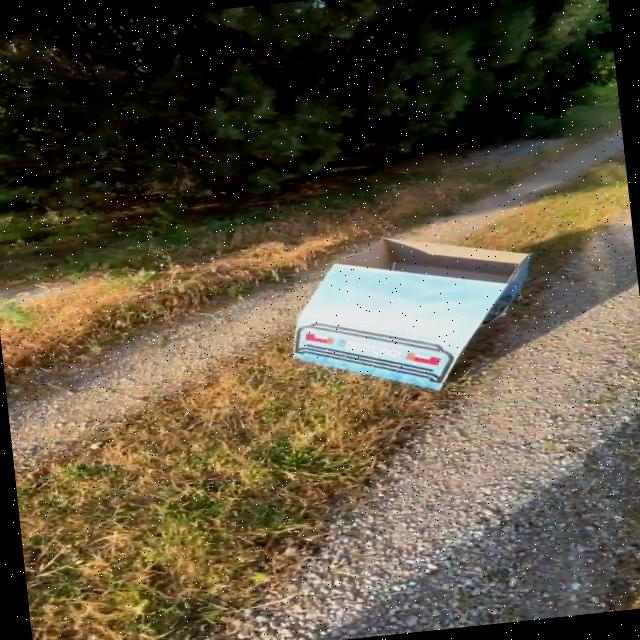blue_car: (251, 203, 595, 433)
